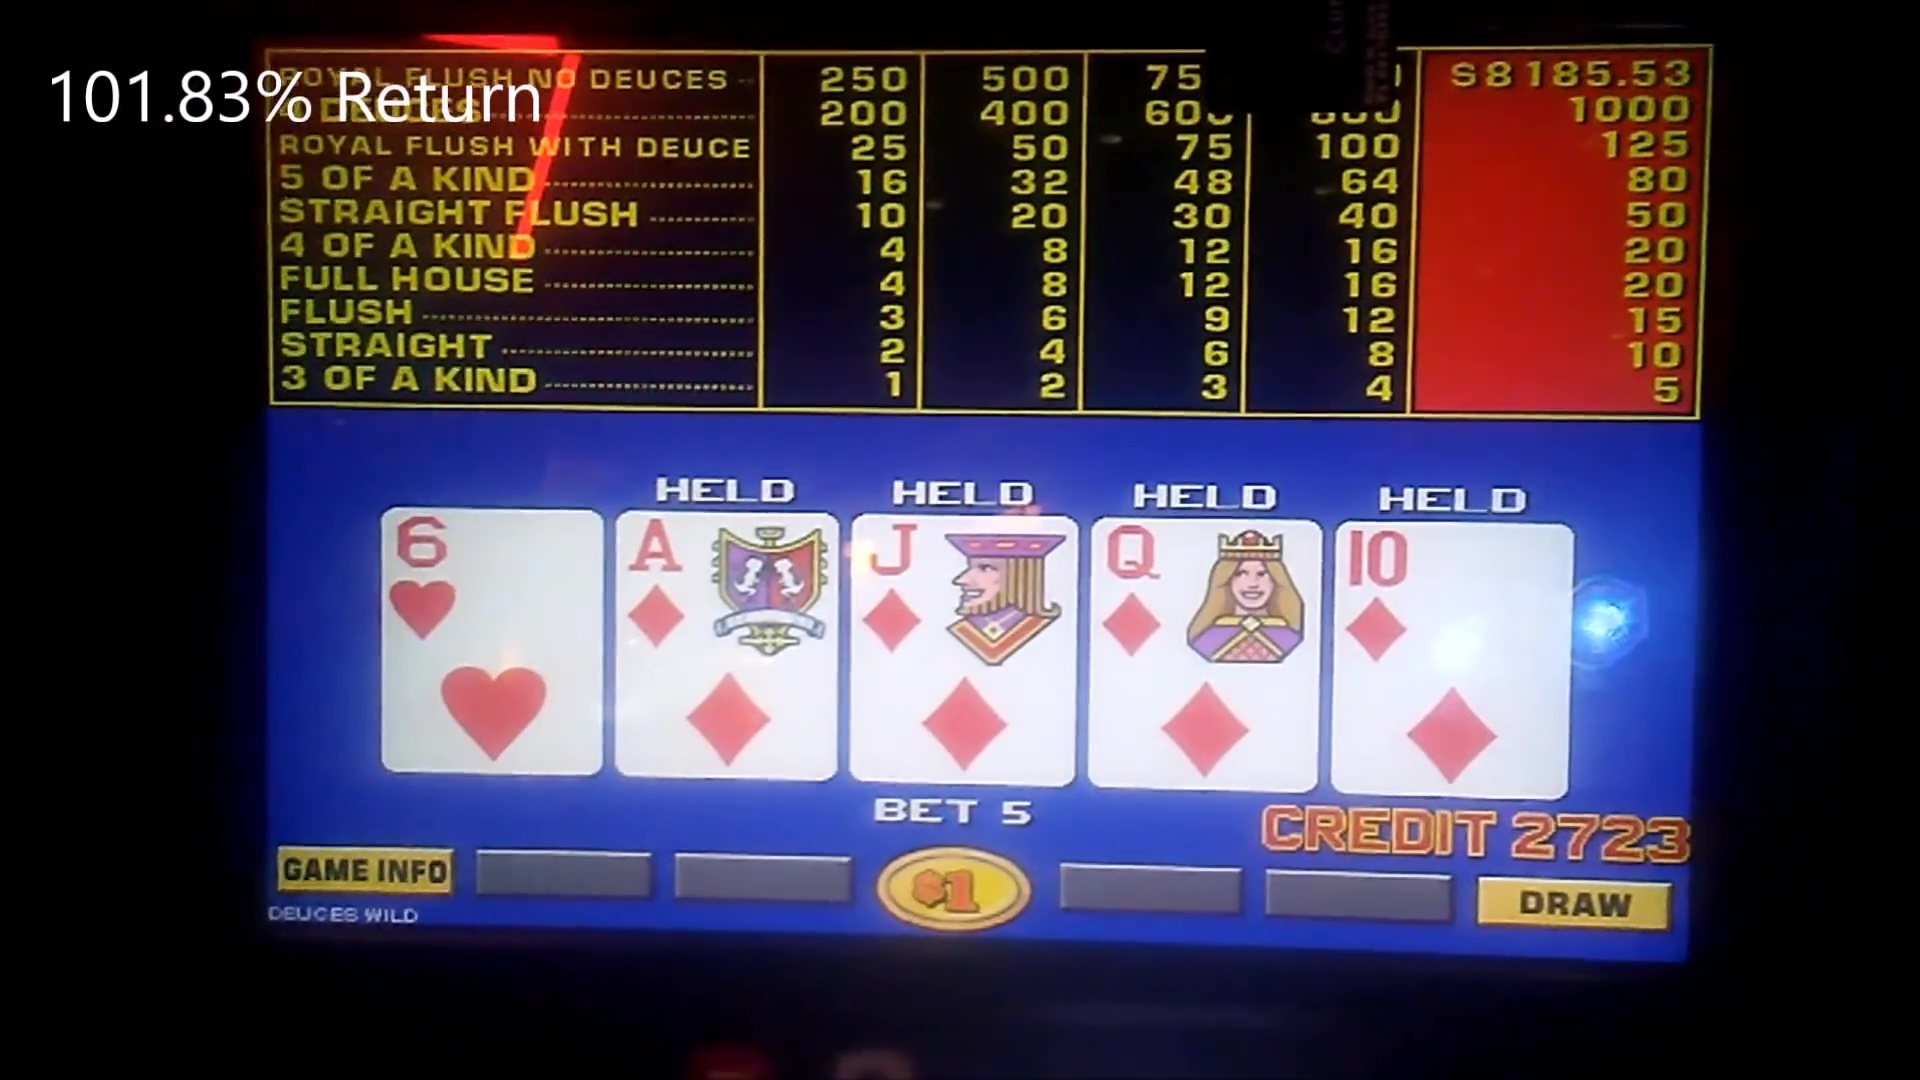DA: (611, 512, 837, 659)
DJ: (849, 517, 1079, 662)
DQ: (1096, 521, 1331, 670)
DT: (1331, 522, 1571, 673)
H6: (384, 506, 607, 654)
